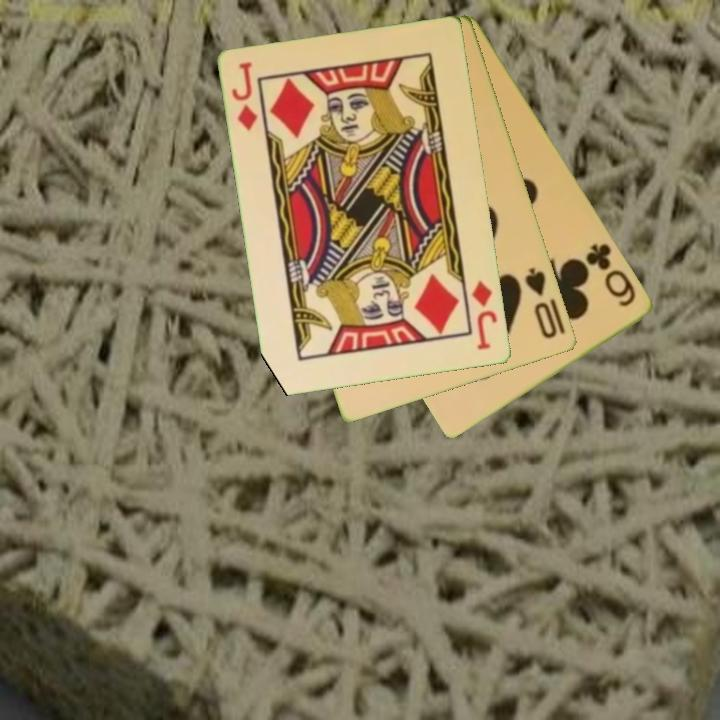10s: (522, 264, 561, 342)
6c: (582, 239, 640, 310)
Jd: (229, 58, 261, 134), (469, 277, 500, 353)
